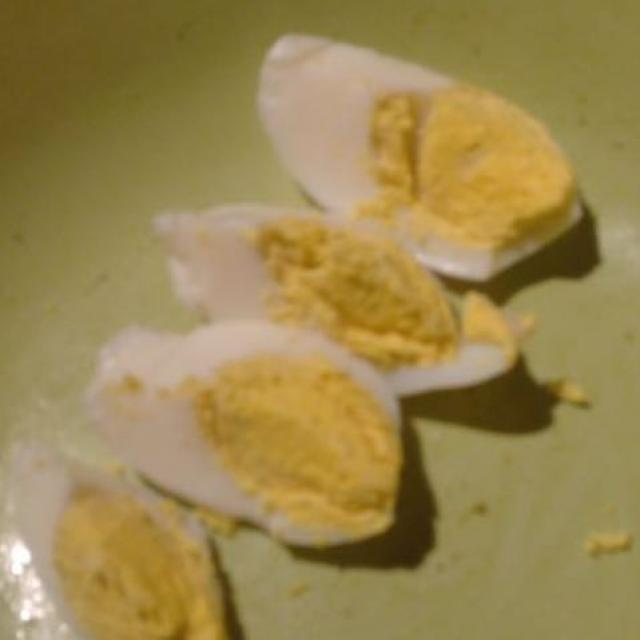egg: (30, 30, 607, 638)
